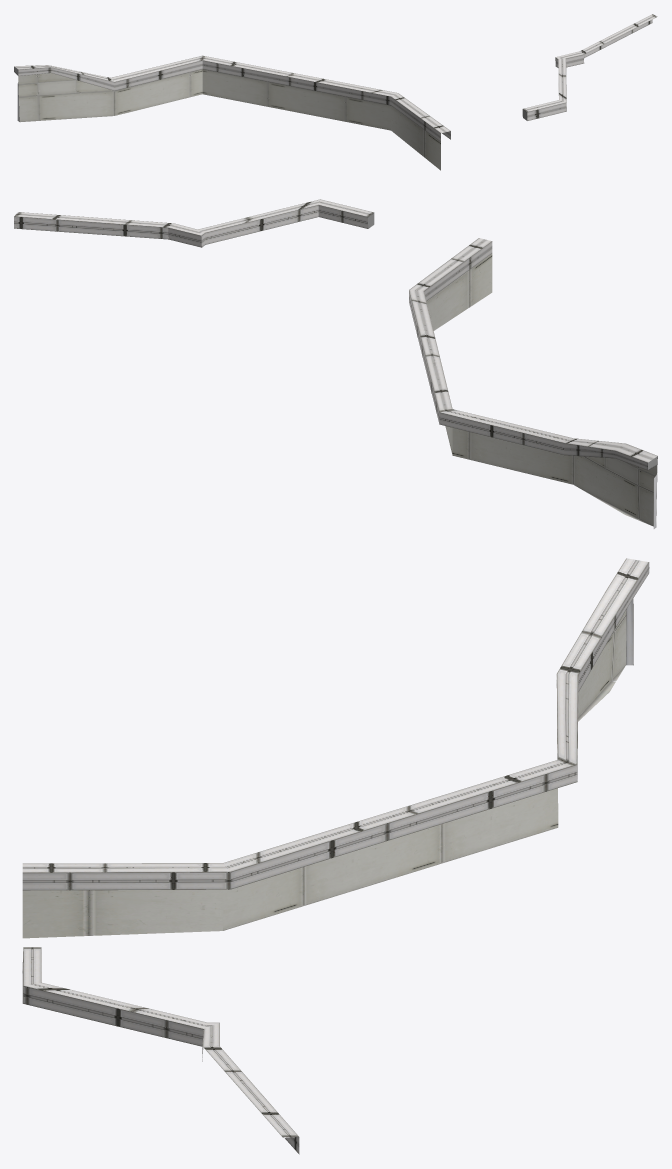
File: STA20_MainAreaEdgeA01.FBX
The picture shows the model from 3 angles, top to bottom: view 1: azimuth 30°, elevation 25°; view 2: azimuth 150°, elevation 25°; view 3: azimuth 270°, elevation 25°; orthographic projection. The views are drawn at different scales.
Visible parts, largest first — view 1: STA20_MainAreaEdgeA01; view 2: STA20_MainAreaEdgeA01; view 3: STA20_MainAreaEdgeA01.
Boxes of the visible parts, bbox=[...] form: STA20_MainAreaEdgeA01: bbox=[14, 14, 657, 170]; STA20_MainAreaEdgeA01: bbox=[14, 199, 657, 528]; STA20_MainAreaEdgeA01: bbox=[22, 558, 649, 1154].
Size of the model in its own units: 41.56 by 4.11 by 20.35.
